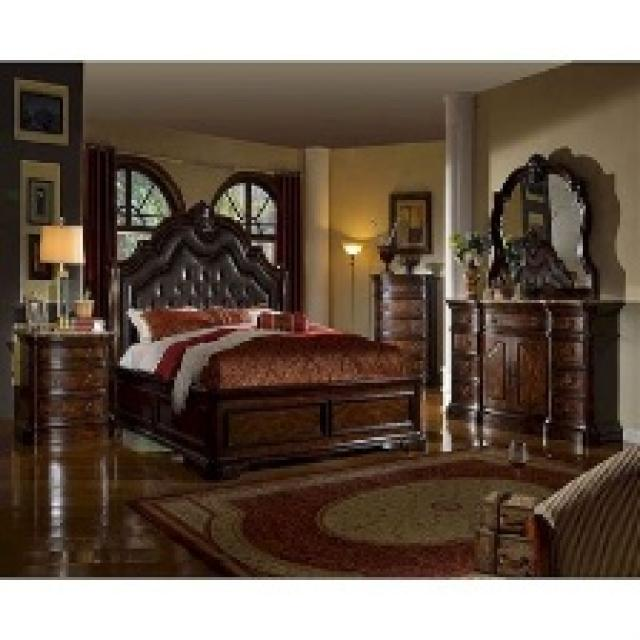Bed: (106, 197, 426, 480)
lamp: (40, 214, 86, 329)
